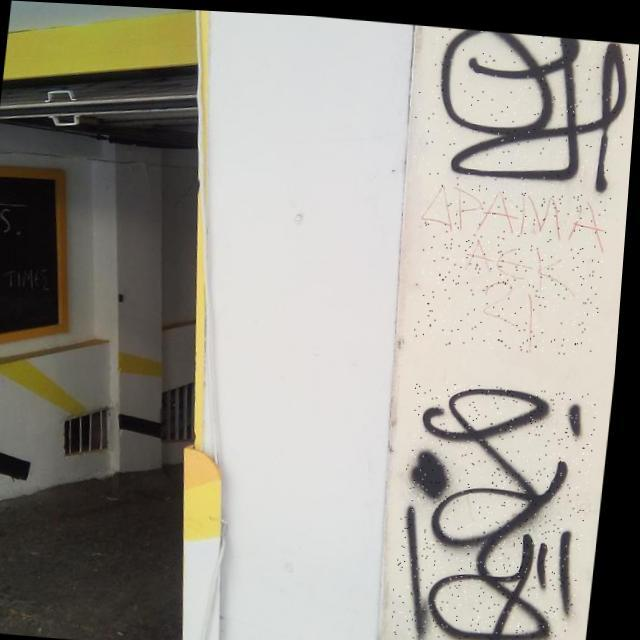-: (394, 373, 604, 640), (410, 20, 634, 186), (414, 176, 614, 350)
